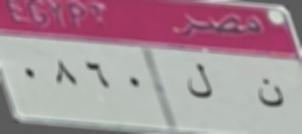0: (121, 70, 151, 104), (20, 60, 42, 89)
6: (84, 58, 111, 92)
8: (50, 57, 81, 90)
laam: (183, 63, 217, 105)
noon: (248, 72, 286, 114)
